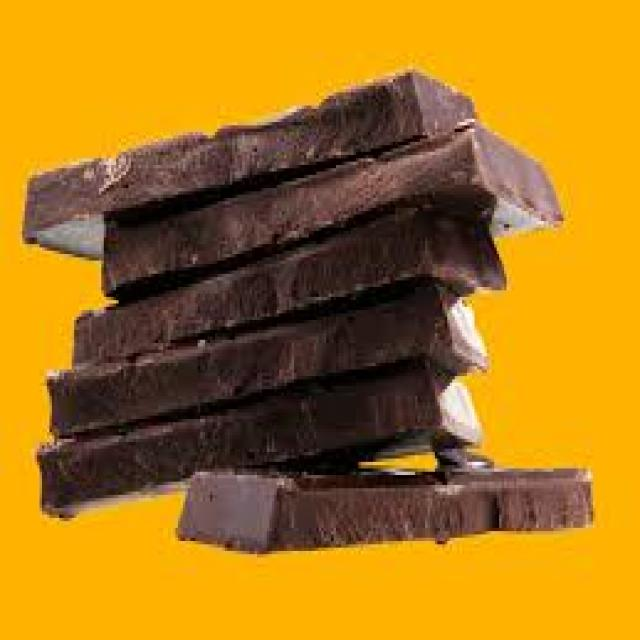Chocolate: (21, 64, 594, 553)
